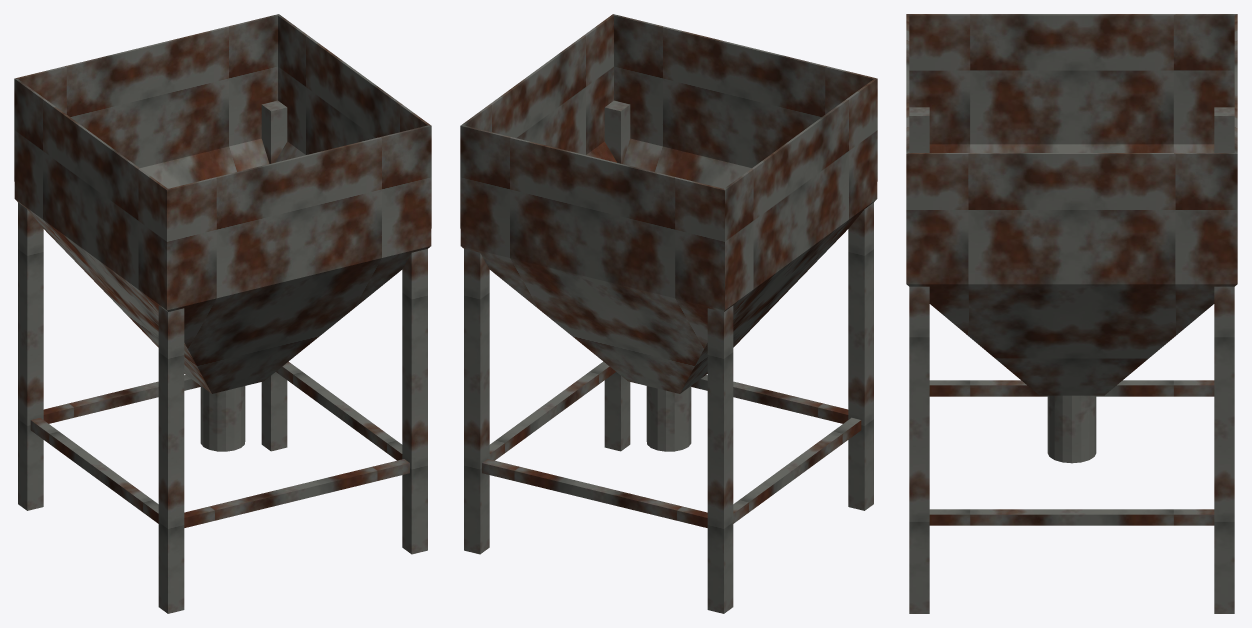
File: HM20_MaterialHopper.glb
3 renders of one model, left to right at view 1: azimuth 30°, elevation 25°; view 2: azimuth 150°, elevation 25°; view 3: azimuth 270°, elevation 25°, orthographic. The views are drawn at different scales.
Visible parts, largest first — view 1: HM20_MaterialHopper; view 2: HM20_MaterialHopper; view 3: HM20_MaterialHopper.
Part boxes in pixels (x1,y1,x2,y2): HM20_MaterialHopper: [14, 14, 431, 613]; HM20_MaterialHopper: [460, 14, 877, 613]; HM20_MaterialHopper: [906, 14, 1237, 613].
Size of the model in its own units: 1.63 by 2.5 by 1.63.
1 material, 1 textured.
